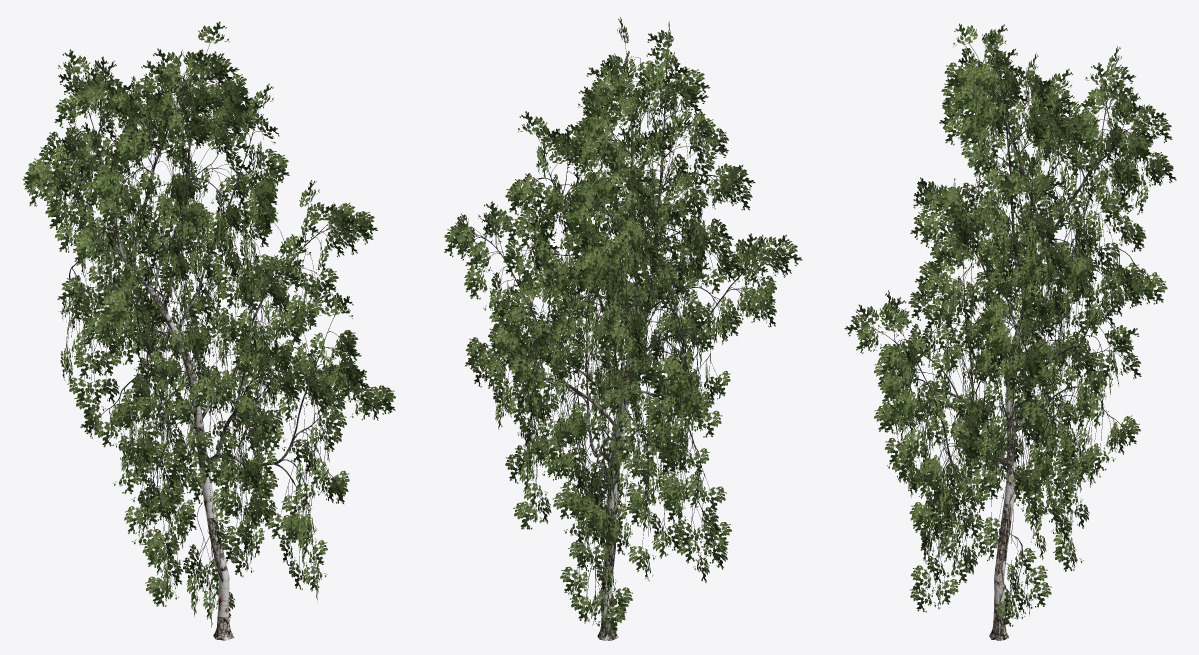
The model's file is bouleau-3.glb.
The picture shows the model from 3 angles, left to right: view 1: azimuth 30°, elevation 25°; view 2: azimuth 150°, elevation 25°; view 3: azimuth 270°, elevation 25°; orthographic projection. The views are drawn at different scales.
Parts seen in each view (by area): view 1: Birch; view 2: Birch; view 3: Birch.
Boxes of the visible parts, bbox=[...] form: Birch: bbox=[38, 36, 383, 640]; Birch: bbox=[457, 33, 787, 640]; Birch: bbox=[860, 37, 1163, 640].
Size of the model in its own units: 6.16 by 11.19 by 5.77.
3 materials, 2 textured.
